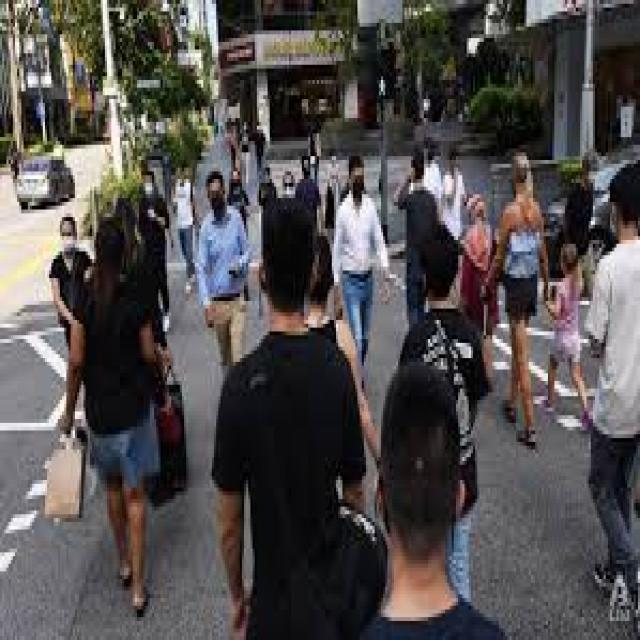Pedestrians: (210, 202, 364, 632), (355, 362, 516, 640), (60, 221, 169, 617), (591, 160, 640, 602), (490, 149, 552, 457), (195, 175, 252, 366), (338, 160, 379, 370), (406, 244, 468, 350)
